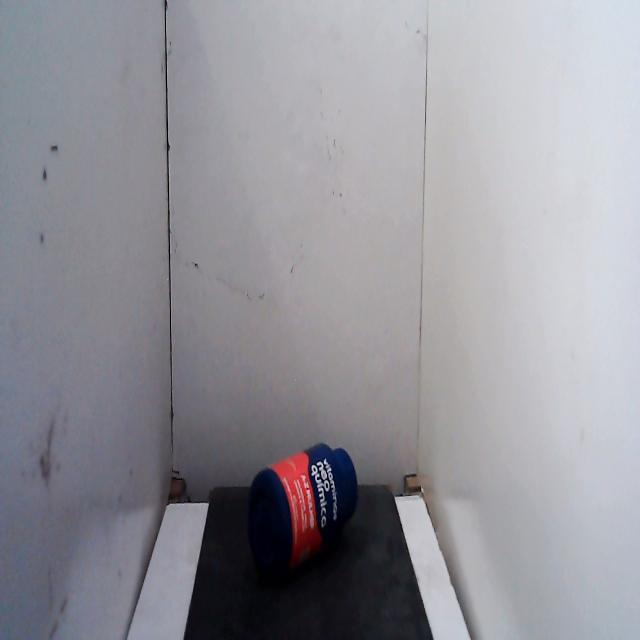plastico: (236, 421, 362, 592)
